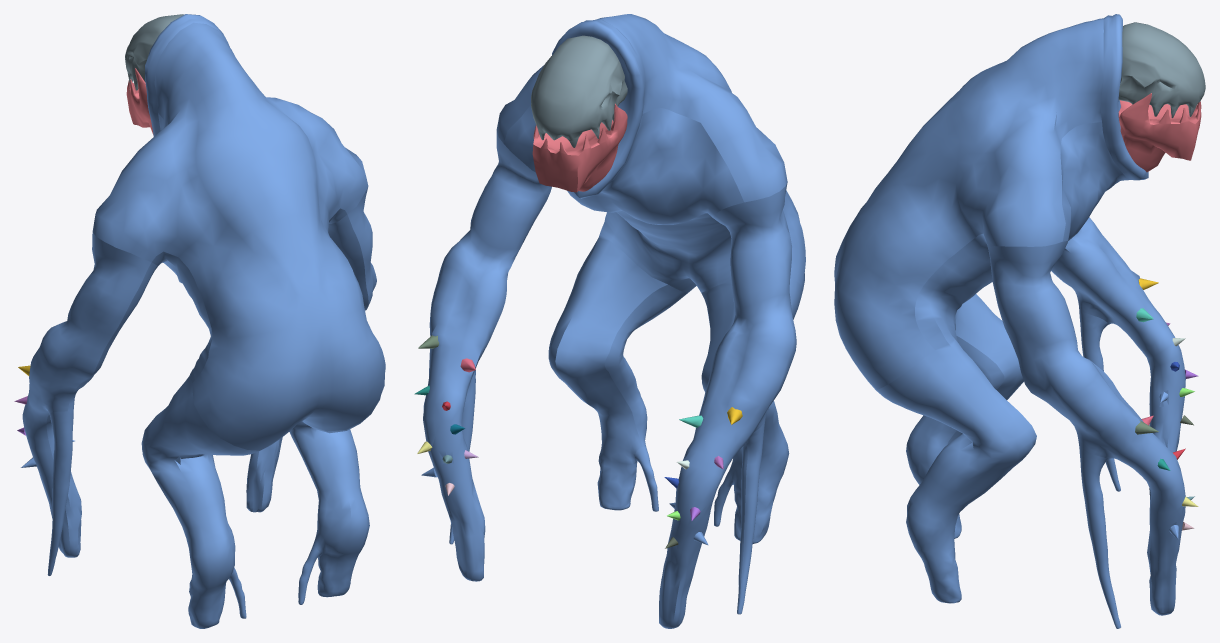
3 renders of one model, left to right at view 1: azimuth 30°, elevation 25°; view 2: azimuth 150°, elevation 25°; view 3: azimuth 270°, elevation 25°, orthographic. The views are drawn at different scales.
Visible parts, largest first — view 1: split_parent_1, defaultMaterial.002, defaultMaterial.003; view 2: split_parent_1, defaultMaterial.002, defaultMaterial.003; view 3: split_parent_1, defaultMaterial.002, defaultMaterial.003.
Part boxes in pixels (x1,y1,x2,y2): split_parent_1: [21, 14, 385, 628]; defaultMaterial.002: [125, 14, 183, 90]; defaultMaterial.003: [126, 68, 153, 134]; split_parent_1: [421, 14, 805, 628]; defaultMaterial.002: [531, 35, 627, 147]; defaultMaterial.003: [532, 103, 627, 192]; split_parent_1: [834, 14, 1185, 628]; defaultMaterial.002: [1118, 22, 1205, 118]; defaultMaterial.003: [1118, 93, 1201, 172].
Size of the model in its own units: 0.6442 by 1 by 0.6116.
